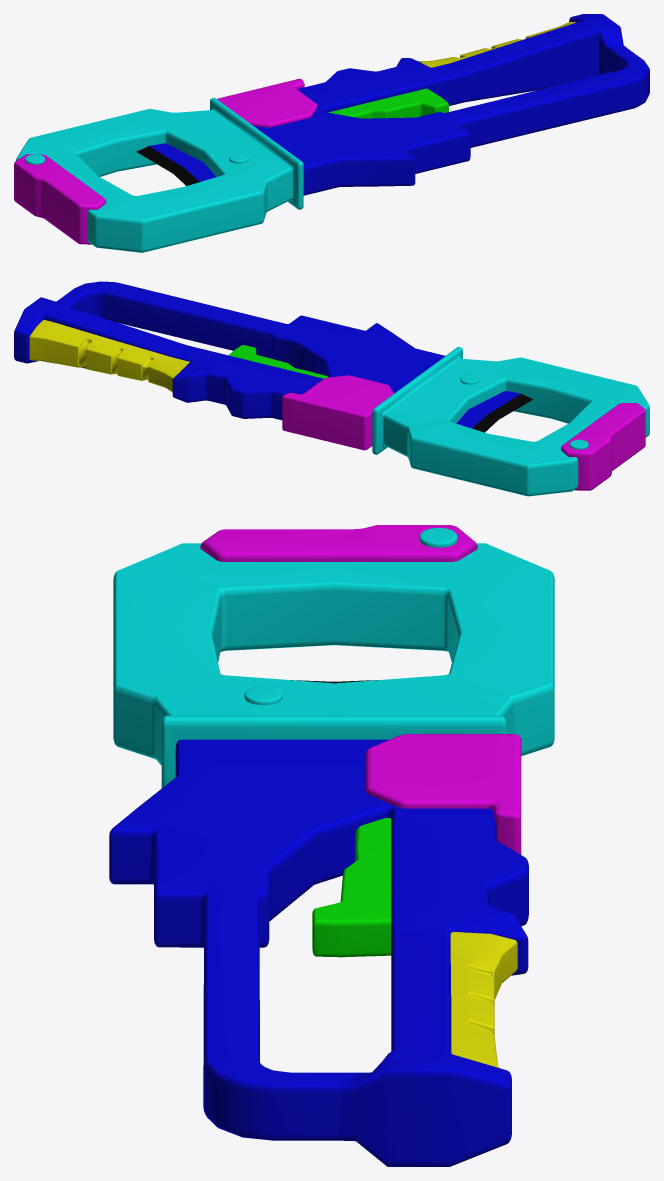
The model's file is Sci_Fi_Clamp.fbx.
The picture shows the model from 3 angles, top to bottom: view 1: azimuth 30°, elevation 25°; view 2: azimuth 150°, elevation 25°; view 3: azimuth 270°, elevation 25°; orthographic projection. The views are drawn at different scales.
Parts seen in each view (by area): view 1: Sci_Fi_Clamp; view 2: Sci_Fi_Clamp; view 3: Sci_Fi_Clamp.
Boxes of the visible parts, left/top/right/bottom form: Sci_Fi_Clamp: left=14, top=14, right=649, bottom=252; Sci_Fi_Clamp: left=14, top=281, right=649, bottom=496; Sci_Fi_Clamp: left=109, top=525, right=554, bottom=1166.
Size of the model in its own units: 32.97 by 2.79 by 11.17.
